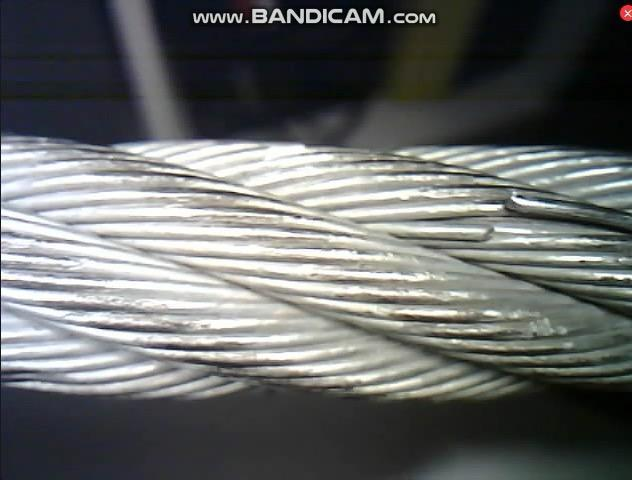break: (457, 183, 534, 252)
